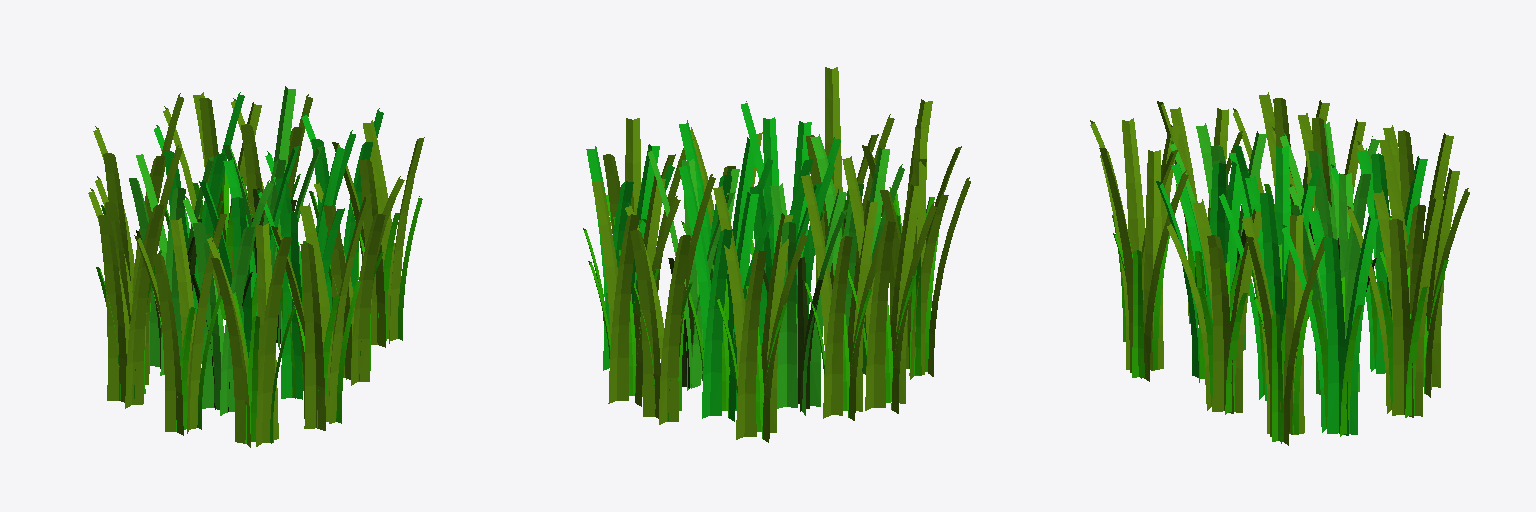
File: bunchOfGrass.obj
3 renders of one model, left to right at view 1: azimuth 30°, elevation 25°; view 2: azimuth 150°, elevation 25°; view 3: azimuth 270°, elevation 25°, orthographic.
Visible parts, largest first — view 1: Plane.014_Plane.046, Plane.015_Plane.047, Plane.003_Plane.036, Plane.013_Plane.045, Plane.016_Plane.048, Plane.002_Plane.035, Plane.012_Plane.044, Plane.017_Plane.049, Plane.008_Plane.040, Plane.005_Plane.038, Plane.009_Plane.041, Plane.006_Plane.023 (+6 smaller); view 2: Plane.010_Plane.042, Plane.013_Plane.045, Plane.011_Plane.043, Plane.009_Plane.041, Plane.004_Plane.037, Plane.001_Plane.032, Plane.008_Plane.040, Plane.003_Plane.036, Plane.006_Plane.023, Plane.005_Plane.038, Plane.002_Plane.035, Plane.000_Plane.031 (+6 smaller); view 3: Plane.001_Plane.032, Plane.000_Plane.031, Plane.015_Plane.047, Plane.012_Plane.044, Plane.016_Plane.048, Plane.009_Plane.041, Plane.017_Plane.049, Plane.007_Plane.039, Plane.006_Plane.023, Plane.004_Plane.037, Plane.014_Plane.046, Plane.008_Plane.040 (+6 smaller).
Part boxes in pixels (left/top/right/bottom): Plane.014_Plane.046: left=207, top=223, right=295, bottom=447; Plane.015_Plane.047: left=271, top=194, right=371, bottom=430; Plane.003_Plane.036: left=134, top=214, right=226, bottom=435; Plane.013_Plane.045: left=88, top=155, right=178, bottom=408; Plane.016_Plane.048: left=332, top=120, right=424, bottom=347; Plane.002_Plane.035: left=183, top=180, right=273, bottom=415; Plane.012_Plane.044: left=314, top=176, right=404, bottom=385; Plane.017_Plane.049: left=256, top=146, right=344, bottom=399; Plane.008_Plane.040: left=129, top=154, right=212, bottom=375; Plane.005_Plane.038: left=199, top=146, right=299, bottom=357; Plane.009_Plane.041: left=163, top=92, right=261, bottom=319; Plane.006_Plane.023: left=223, top=86, right=322, bottom=349; Plane.010_Plane.042: left=713, top=186, right=807, bottom=442; Plane.013_Plane.045: left=842, top=156, right=936, bottom=413; Plane.011_Plane.043: left=801, top=172, right=889, bottom=420; Plane.009_Plane.041: left=625, top=174, right=715, bottom=424; Plane.004_Plane.037: left=679, top=164, right=773, bottom=421; Plane.001_Plane.032: left=588, top=176, right=680, bottom=406; Plane.008_Plane.040: left=763, top=183, right=847, bottom=415; Plane.003_Plane.036: left=880, top=127, right=970, bottom=379; Plane.006_Plane.023: left=648, top=148, right=739, bottom=390; Plane.005_Plane.038: left=750, top=117, right=834, bottom=353; Plane.002_Plane.035: left=810, top=134, right=904, bottom=374; Plane.000_Plane.031: left=583, top=144, right=674, bottom=370; Plane.001_Plane.032: left=1347, top=190, right=1443, bottom=417; Plane.000_Plane.031: left=1282, top=208, right=1378, bottom=436; Plane.015_Plane.047: left=1099, top=148, right=1188, bottom=381; Plane.012_Plane.044: left=1167, top=199, right=1261, bottom=414; Plane.016_Plane.048: left=1242, top=214, right=1326, bottom=445; Plane.009_Plane.041: left=1379, top=137, right=1469, bottom=397; Plane.017_Plane.049: left=1156, top=161, right=1242, bottom=384; Plane.007_Plane.039: left=1219, top=176, right=1315, bottom=400; Plane.006_Plane.023: left=1288, top=173, right=1376, bottom=394; Plane.004_Plane.037: left=1331, top=148, right=1427, bottom=373; Plane.014_Plane.046: left=1090, top=118, right=1180, bottom=341; Plane.008_Plane.040: left=1280, top=122, right=1378, bottom=258.
Size of the model in its own units: 20.33 by 14.04 by 20.5.